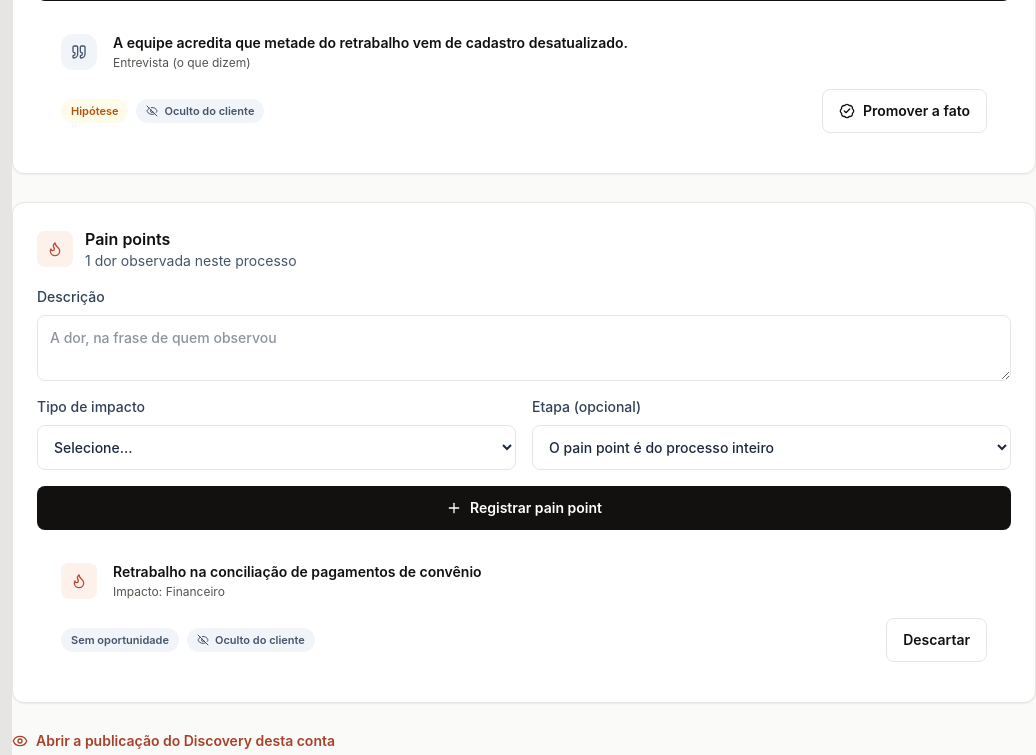
Test: descartar a dor manda o PATCH — e confirmar não é oferecido aqui
This screenshot has width=1036, height=755.
(page scrolled)
Click the button named "Descartar pain point: Retrabalho na conciliação de pagamentos de convênio".
click(937, 640)  # box [886, 618, 987, 662]
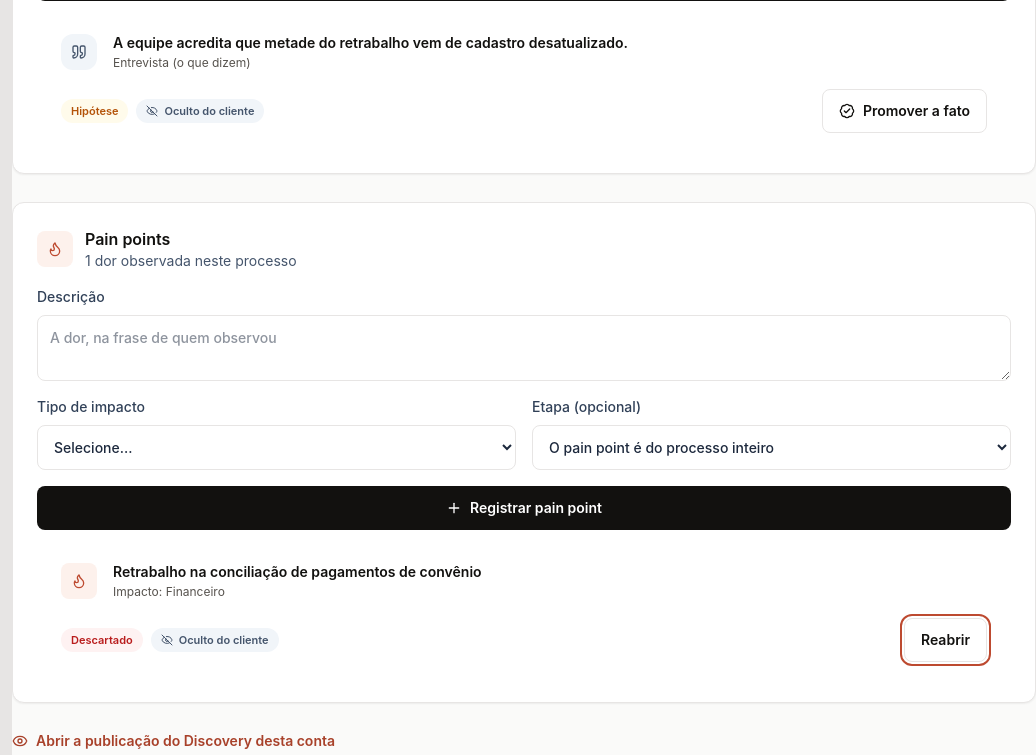
Check: the button with aria-label "Reabrir pain point:" is shown, box [904, 618, 987, 662]
Check: the text "Descartado" is shown, box [61, 628, 143, 652]
